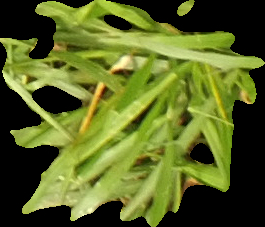grass: (1, 1, 261, 226)
